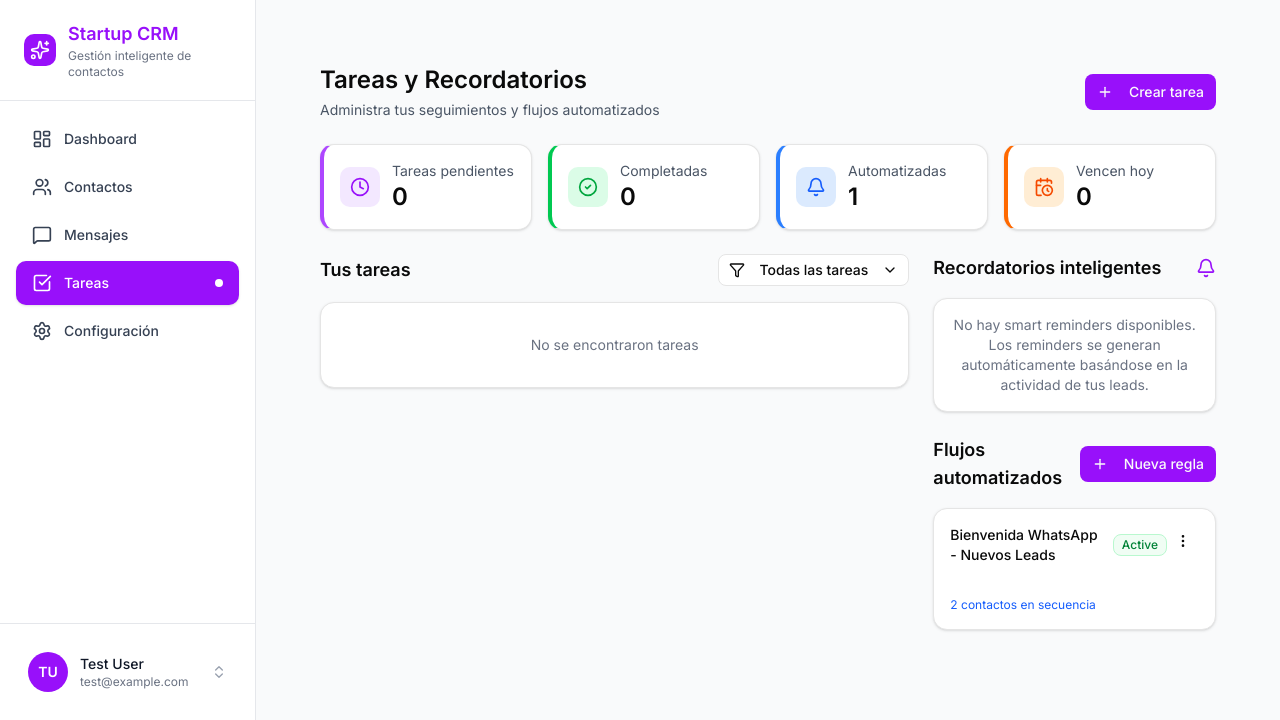
Scenario: Flujo de Bienvenida WhatsApp › Asignación de contactos al flujo › debe permitir asignar contactos al flujo de bienvenida WhatsApp
Expected: the heading "Bienvenida WhatsApp - Nuevos Leads" is shown, [950,525,1105,565]
# Abrir el menú del flujo
Click the button with test id "workflow-menu-1" at [1183, 541], box [1167,525,1199,557]
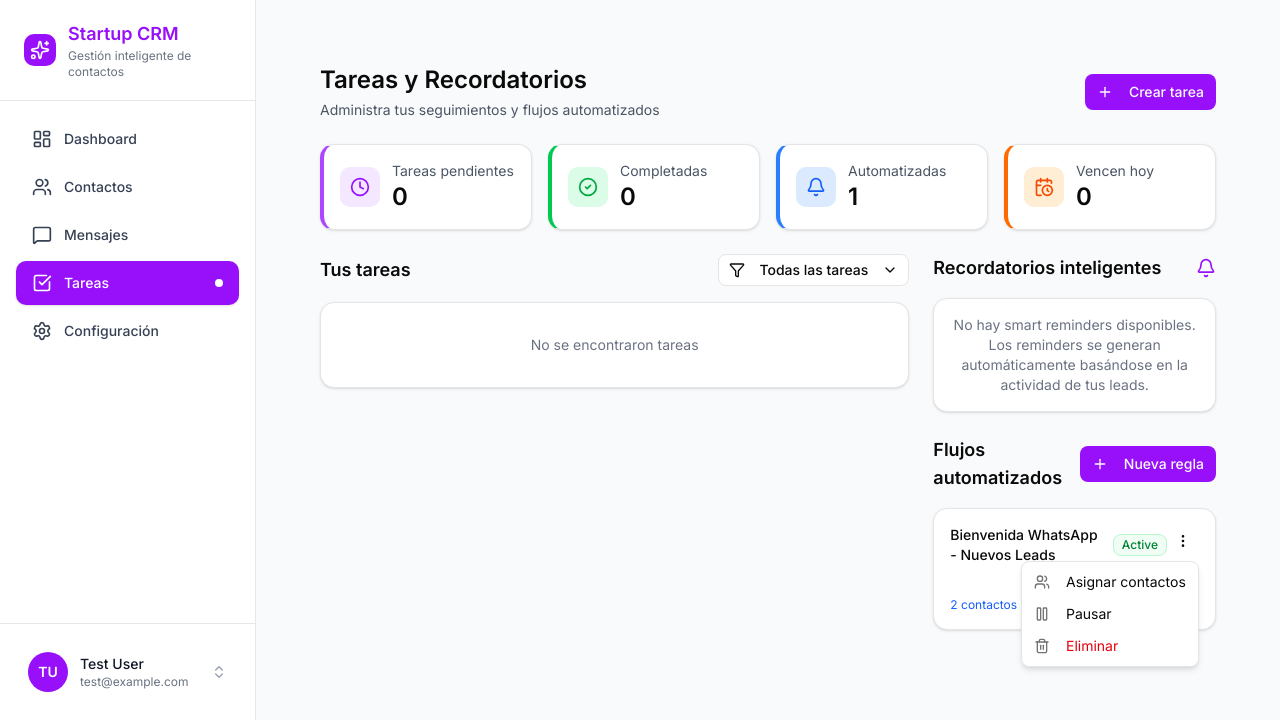
# Click en "Asignar contactos"
Click the menu item with test id "workflow-assign-contacts-1" at [1110, 582], box [1034,573,1186,590]
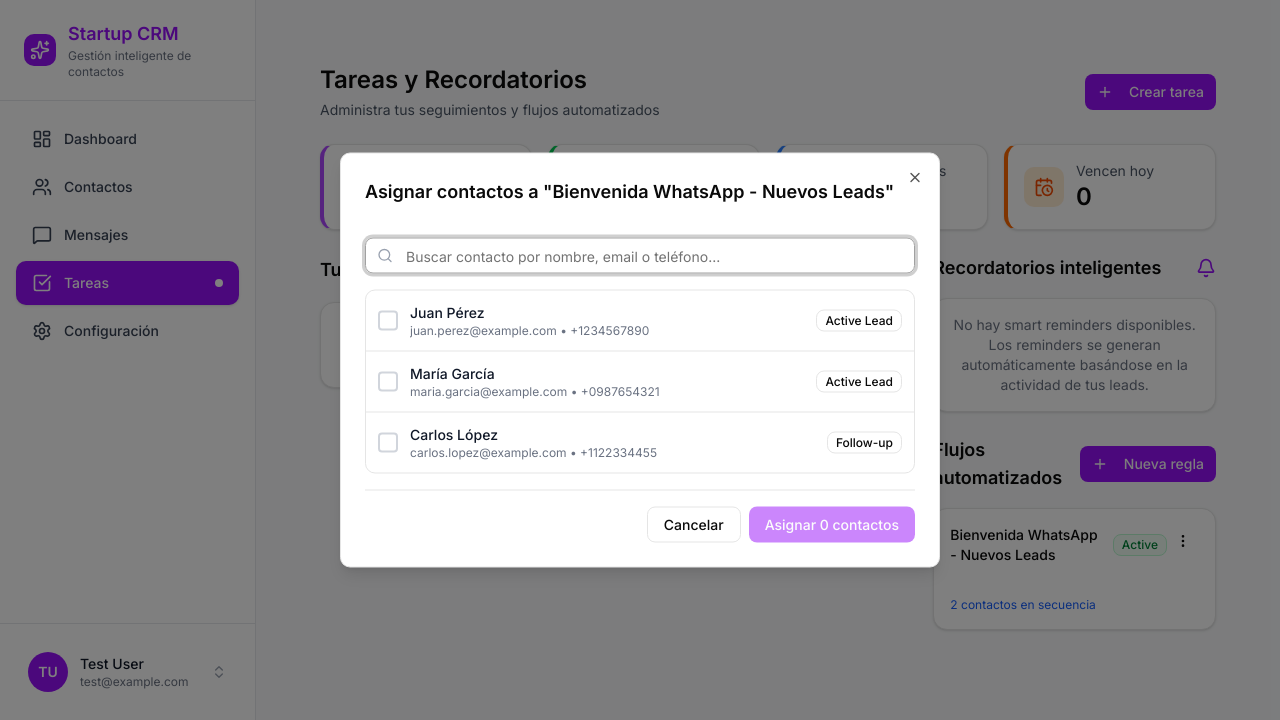
Now the text "Juan Pérez" is shown
# Seleccionar contactos
Click the text "Juan Pérez" at [448, 313], box [410,304,485,321]
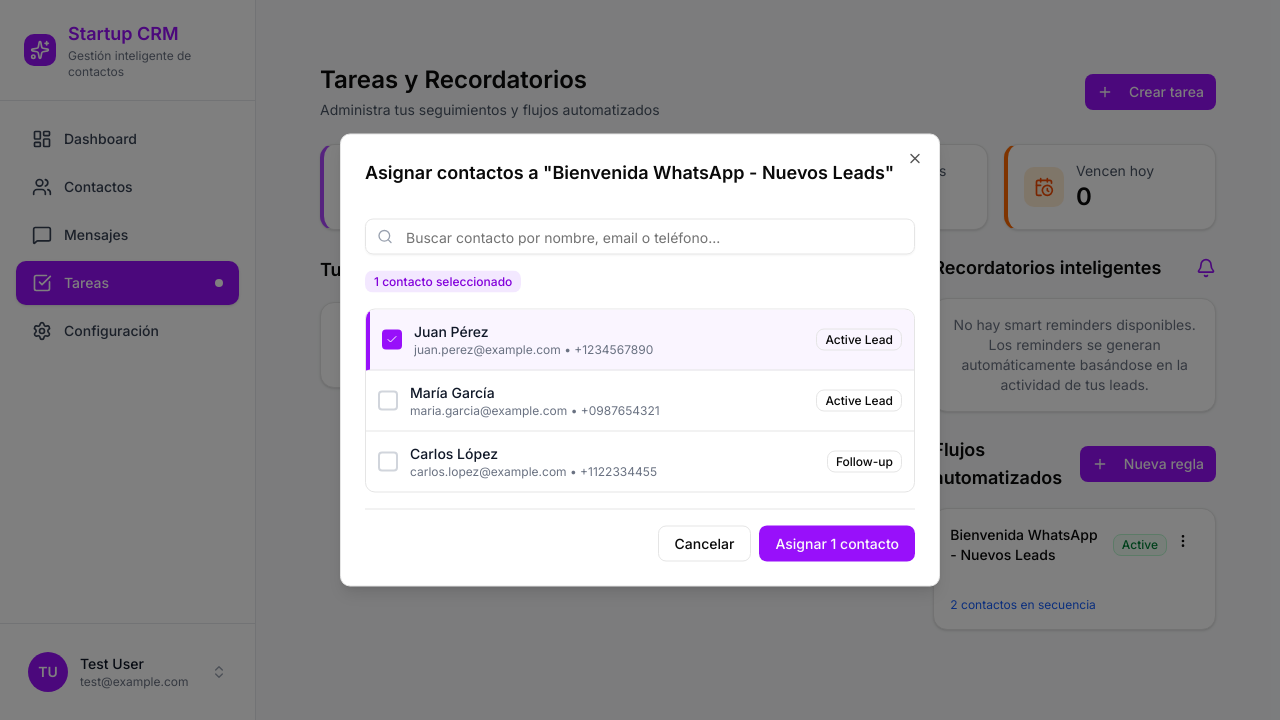
Click the text "María García" at [453, 393], box [410,384,495,401]
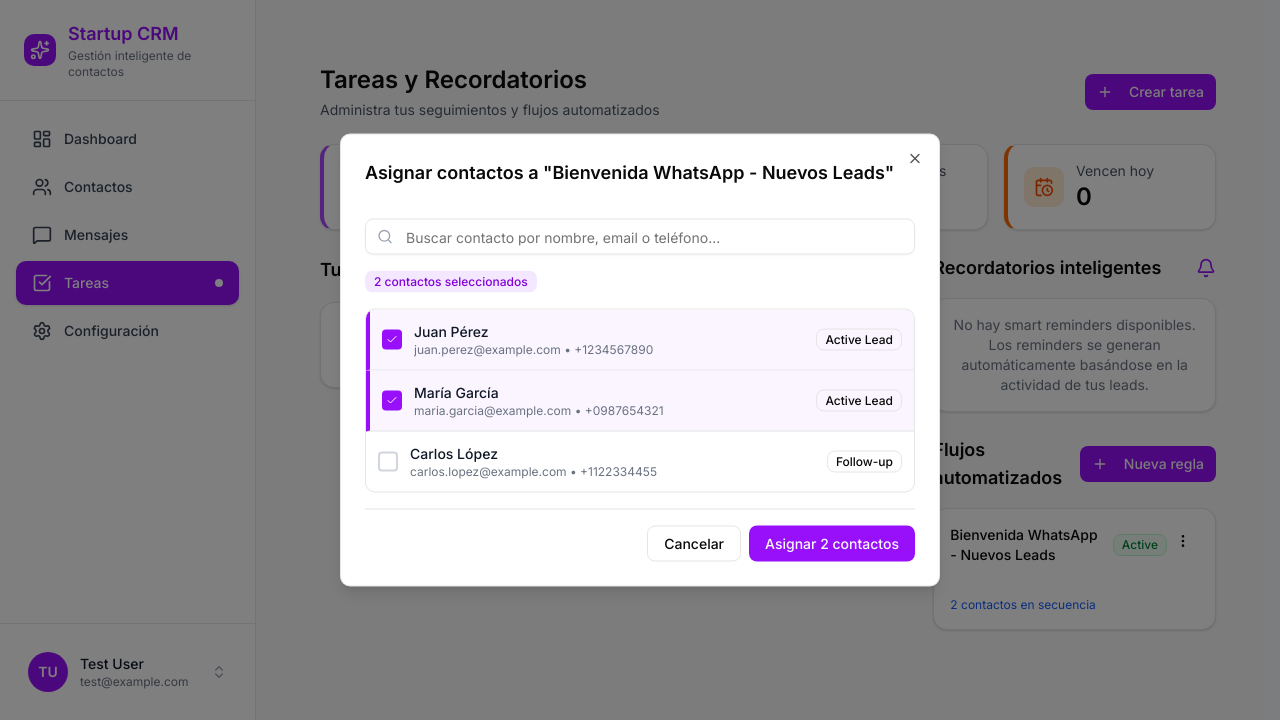
Now the text "2 contactos seleccionados" is shown, box [365,270,537,292]
# Asignar contactos
Click the button "Asignar 2 contactos" at [832, 544], box [749,526,915,562]
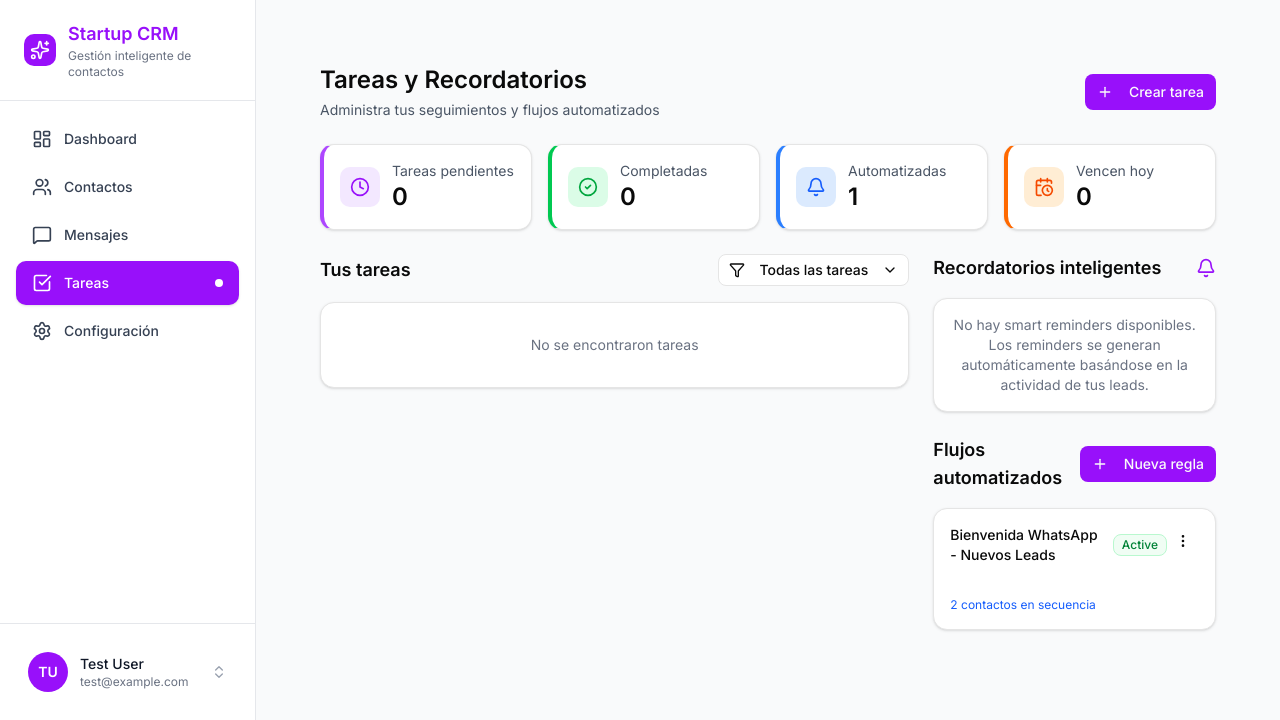
Now the heading "Asignar contactos" is gone
